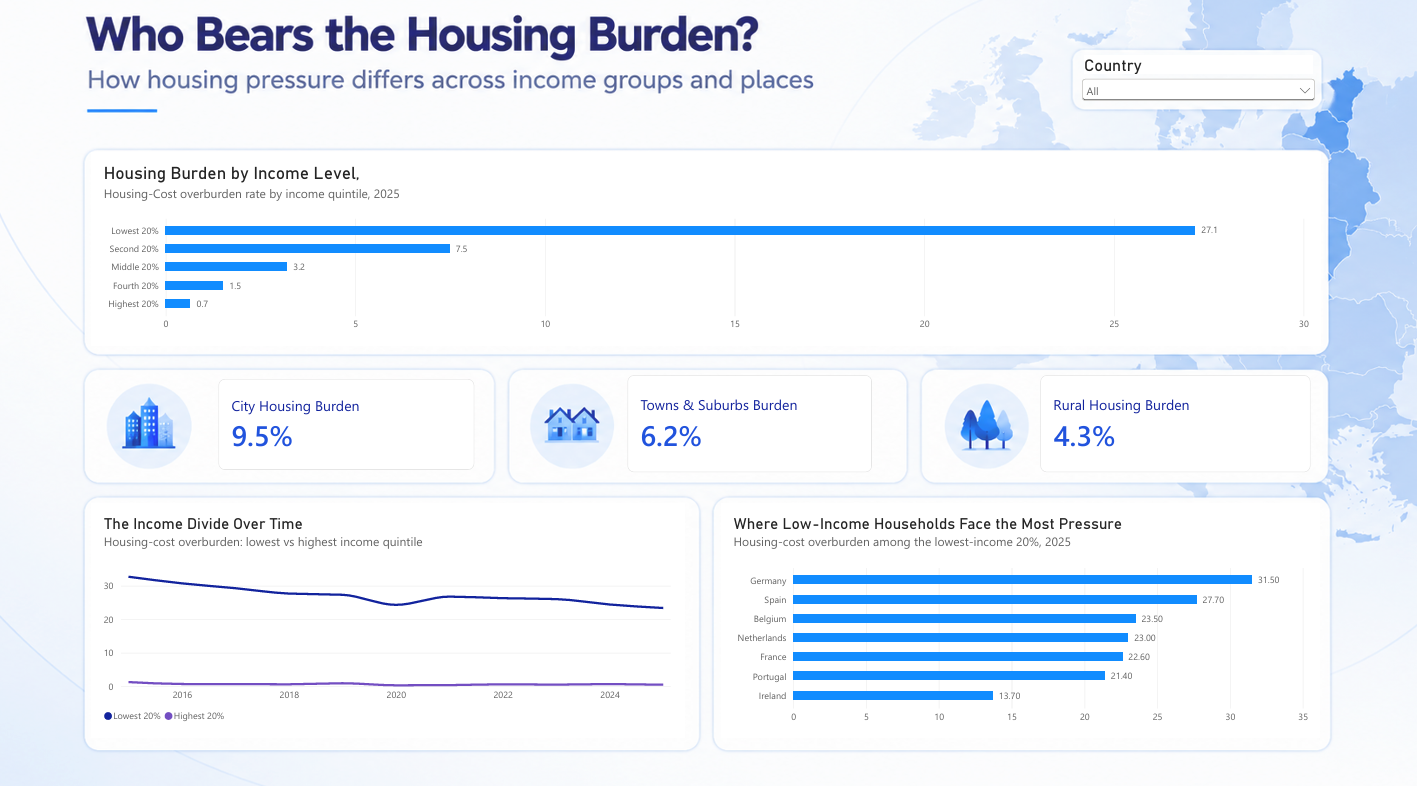

The dashboard page shown, as its layout file describes it:
{"tool":"powerbi","page":{"name":"Who Bears the Housing Burden?","canvas":[1920,1080],"ordinal":2},"visuals":[{"type":"barChart","title":"Housing Burden by Income Level,","fields":{"Category":["Burden by Income.income_group"],"Y":["Avg(Burden by Income.housing_overburden_rate)"]},"box":[150,214,1626,256],"z":0},{"type":"slicer","fields":{"Values":["Dim Country.Country"]},"box":[1455,85,318,158],"z":1000},{"type":"cardVisual","fields":{"Data":["Affordability Annual.City Housing Burden Display"]},"box":[317.5,512.5,338.8,120],"z":2000},{"type":"cardVisual","fields":{"Data":["Affordability Annual.Rural Housing Burden Display"]},"box":[1405,507.5,357.5,128.8],"z":3000},{"type":"cardVisual","fields":{"Data":["Affordability Annual.Towns & Suburbs Burden Display"]},"box":[858.8,507.5,323.8,128.8],"z":4000},{"type":"lineChart","title":"The Income Divide Over Time","fields":{"Category":["Burden by Income.year"],"Series":["Burden by Income.income_group"],"Y":["Avg(Burden by Income.housing_overburden_rate)"]},"box":[150,677.5,785,310],"z":5000},{"type":"barChart","title":"Where Low-Income Households Face the Most Pressure","fields":{"Category":["Dim Country.Country"],"Y":["Burden by Income.Lowest 20% Housing Burden"]},"box":[982.5,677.5,792.5,310],"z":5001}]}

Visuals, with their boxes in screenshot pixels (x1, y1, x2, y2), scaled from the page's 1920x1080 canvas onto the 1417x786 screenshot:
"Housing Burden by Income Level," barChart: (111,156,1311,342)
slicer - Dim Country.Country: (1074,62,1309,177)
cardVisual - Affordability Annual.City Housing Burden Display: (234,373,484,460)
cardVisual - Affordability Annual.Rural Housing Burden Display: (1037,369,1301,463)
cardVisual - Affordability Annual.Towns & Suburbs Burden Display: (634,369,873,463)
"The Income Divide Over Time" lineChart: (111,493,690,719)
"Where Low-Income Households Face the Most Pressure" barChart: (725,493,1310,719)
